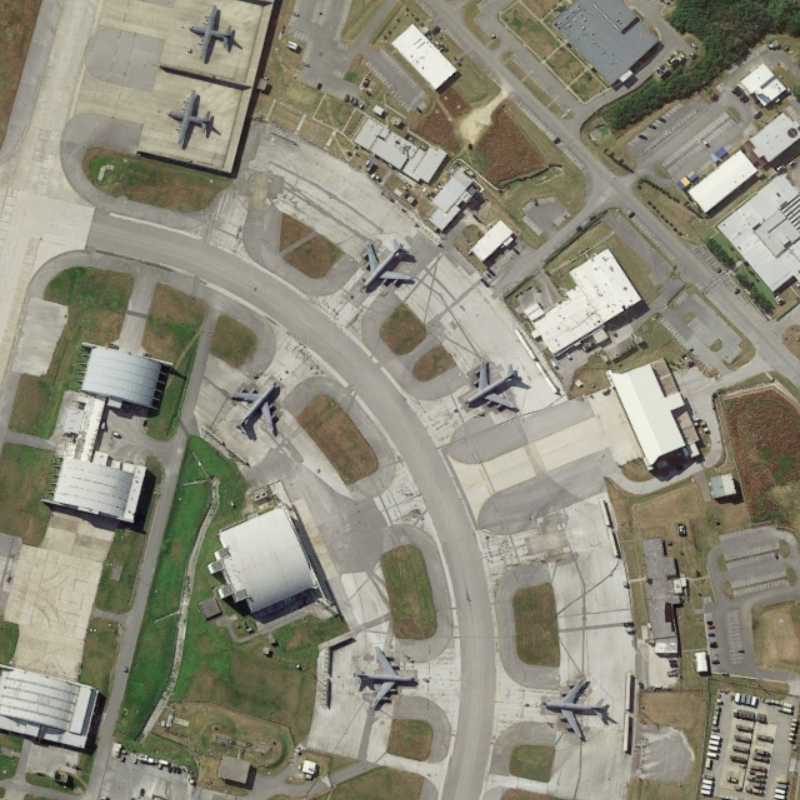A14: (353, 644, 419, 713), (540, 677, 609, 743), (463, 357, 524, 416), (228, 378, 280, 443), (358, 237, 417, 294)
A2: (163, 88, 214, 150), (186, 4, 235, 64)
